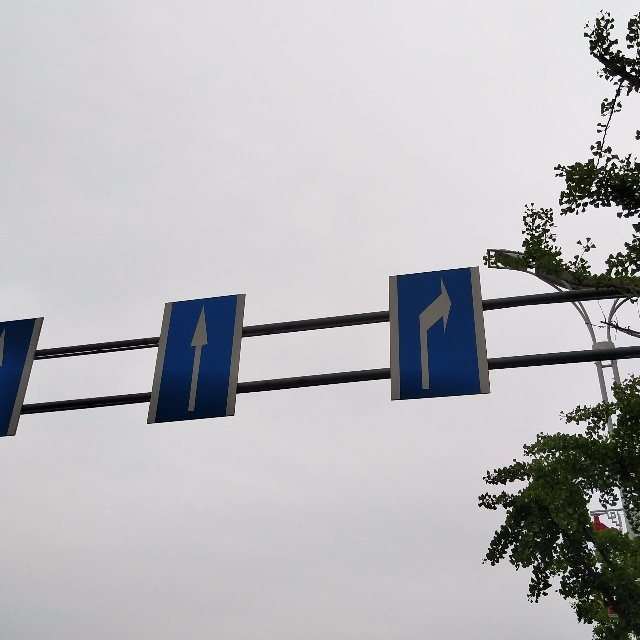right: (402, 273, 469, 398)
straight: (172, 297, 227, 412)
